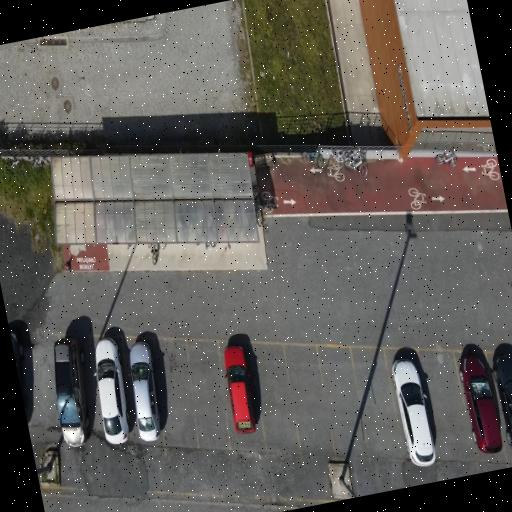car: (393, 359, 435, 466), (460, 356, 502, 453), (54, 338, 89, 446), (96, 338, 129, 444), (130, 342, 160, 441), (224, 345, 255, 433), (493, 354, 511, 446), (10, 331, 27, 416)
